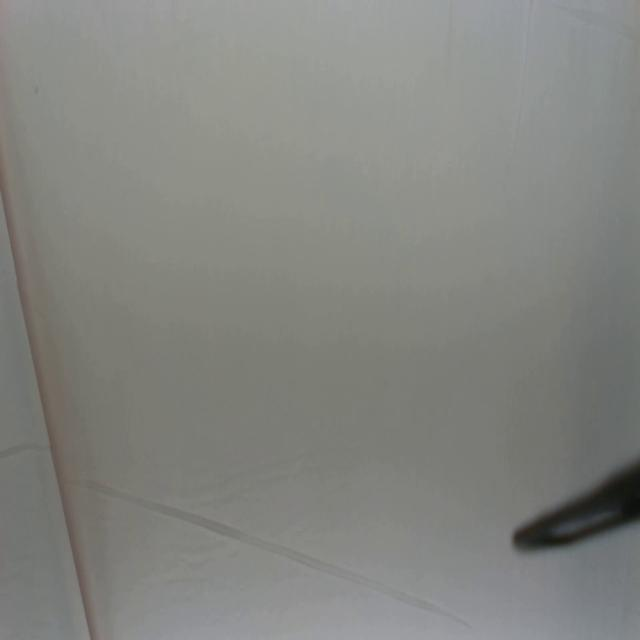crease: (82, 486, 477, 633), (0, 191, 92, 640)
